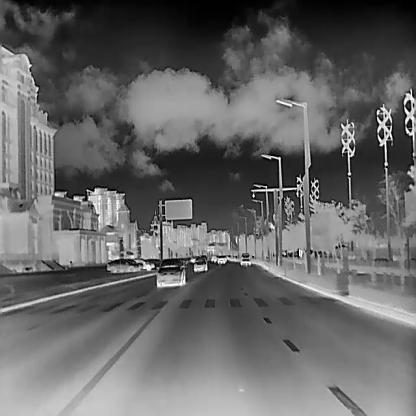car: (156, 256, 184, 288), (106, 257, 137, 272), (133, 256, 154, 270), (192, 254, 208, 270), (239, 252, 251, 264), (217, 254, 226, 263), (189, 254, 196, 264), (211, 252, 217, 262)
